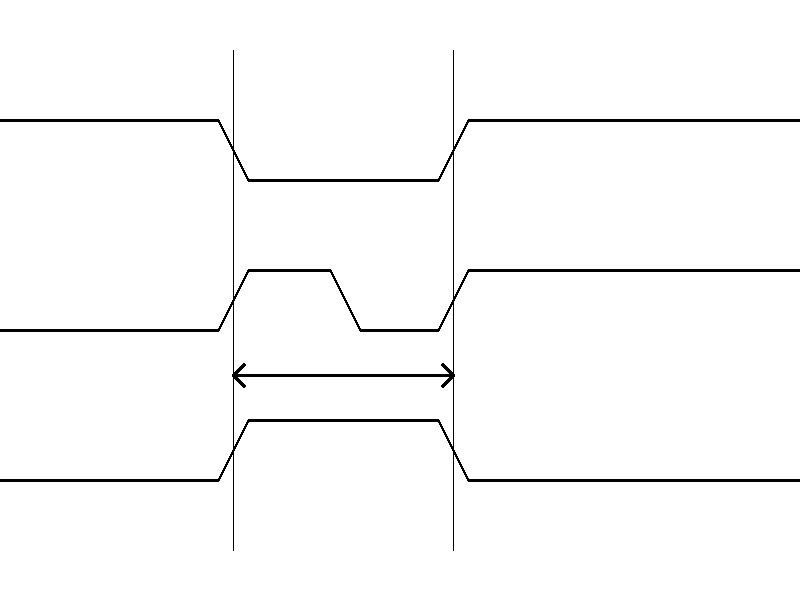double_arrow: (233, 360, 453, 390)
